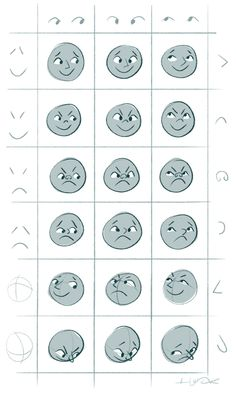triste: (158, 157, 199, 204), (155, 213, 200, 254), (103, 212, 139, 253), (49, 212, 84, 252), (105, 160, 141, 197), (51, 158, 86, 195), (4, 162, 33, 201), (8, 222, 36, 254), (165, 225, 194, 244)
